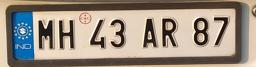3: (109, 17, 128, 50)
4: (87, 16, 108, 52)
7: (211, 14, 230, 48)
8: (190, 16, 211, 49)
A: (140, 16, 161, 52)
H: (56, 17, 78, 52)
M: (35, 16, 56, 51)
R: (158, 14, 180, 50)
